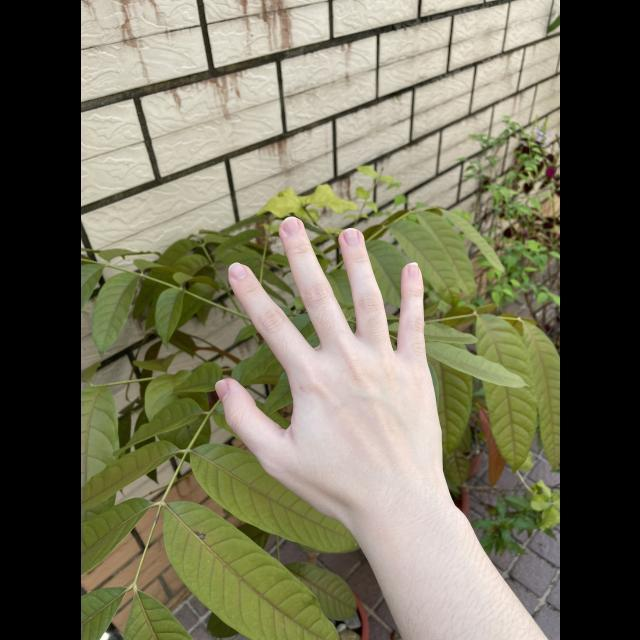bare_hand: (214, 213, 445, 507)
